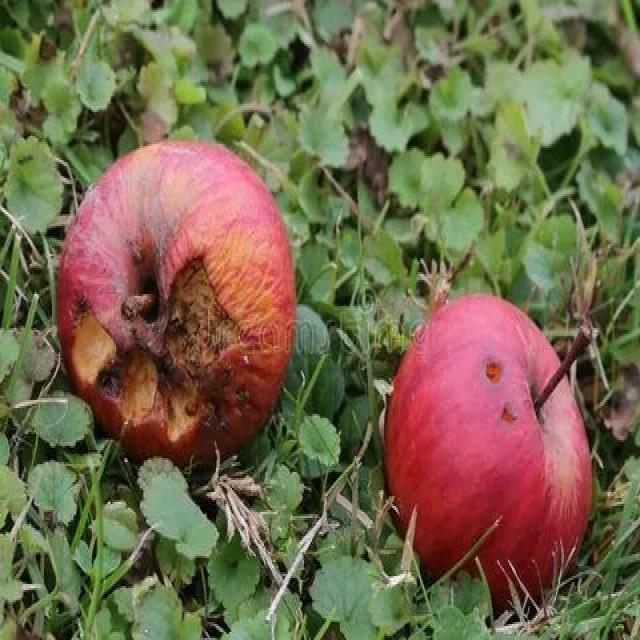Rotten: (46, 138, 296, 440), (396, 304, 598, 594)
